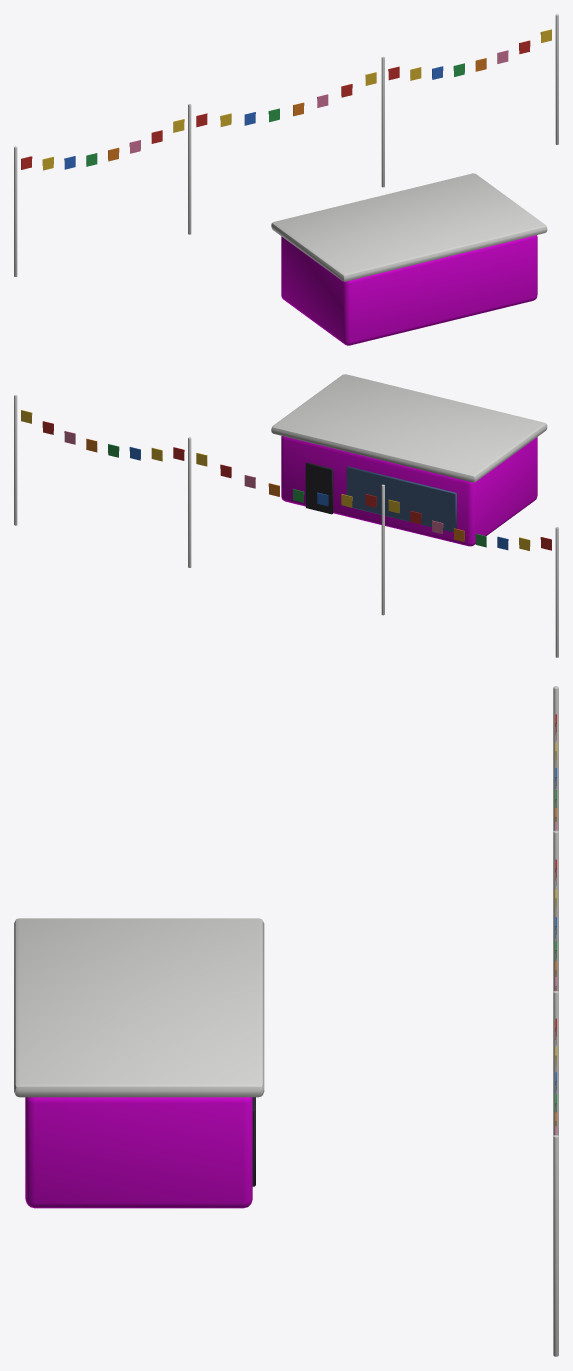
The model's file is Poi_RentalLot.fbx.
3 renders of one model, top to bottom at view 1: azimuth 30°, elevation 25°; view 2: azimuth 150°, elevation 25°; view 3: azimuth 270°, elevation 25°, orthographic. The views are drawn at different scales.
Parts seen in each view (by area): view 1: Poi_RentalLot; view 2: Poi_RentalLot; view 3: Poi_RentalLot.
Boxes of the visible parts, x1,y1,x2,y2 form: Poi_RentalLot: (14, 14, 558, 345); Poi_RentalLot: (14, 374, 558, 657); Poi_RentalLot: (14, 686, 558, 1356).
Size of the model in its own units: 28.15 by 6.4 by 14.38.
